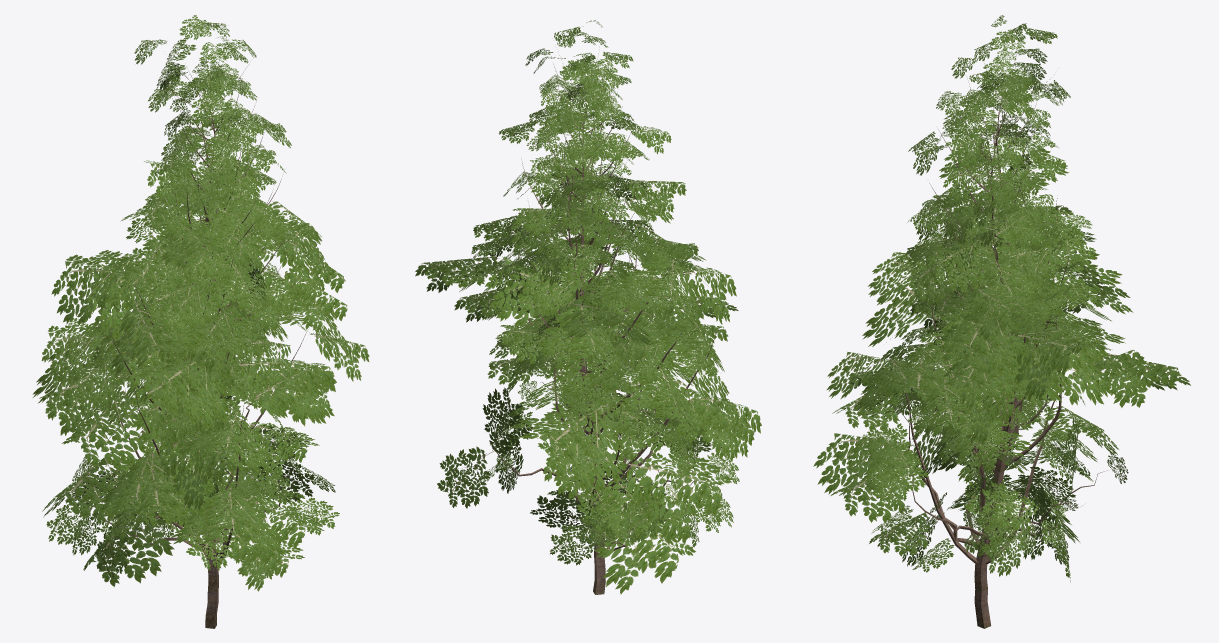
3 views of the same model, side by side, from view 1: azimuth 30°, elevation 25°; view 2: azimuth 150°, elevation 25°; view 3: azimuth 270°, elevation 25° (orthographic). The views are drawn at different scales.
Size of the model in its own units: 27.85 by 48.72 by 29.93.
1 material, 1 textured.
